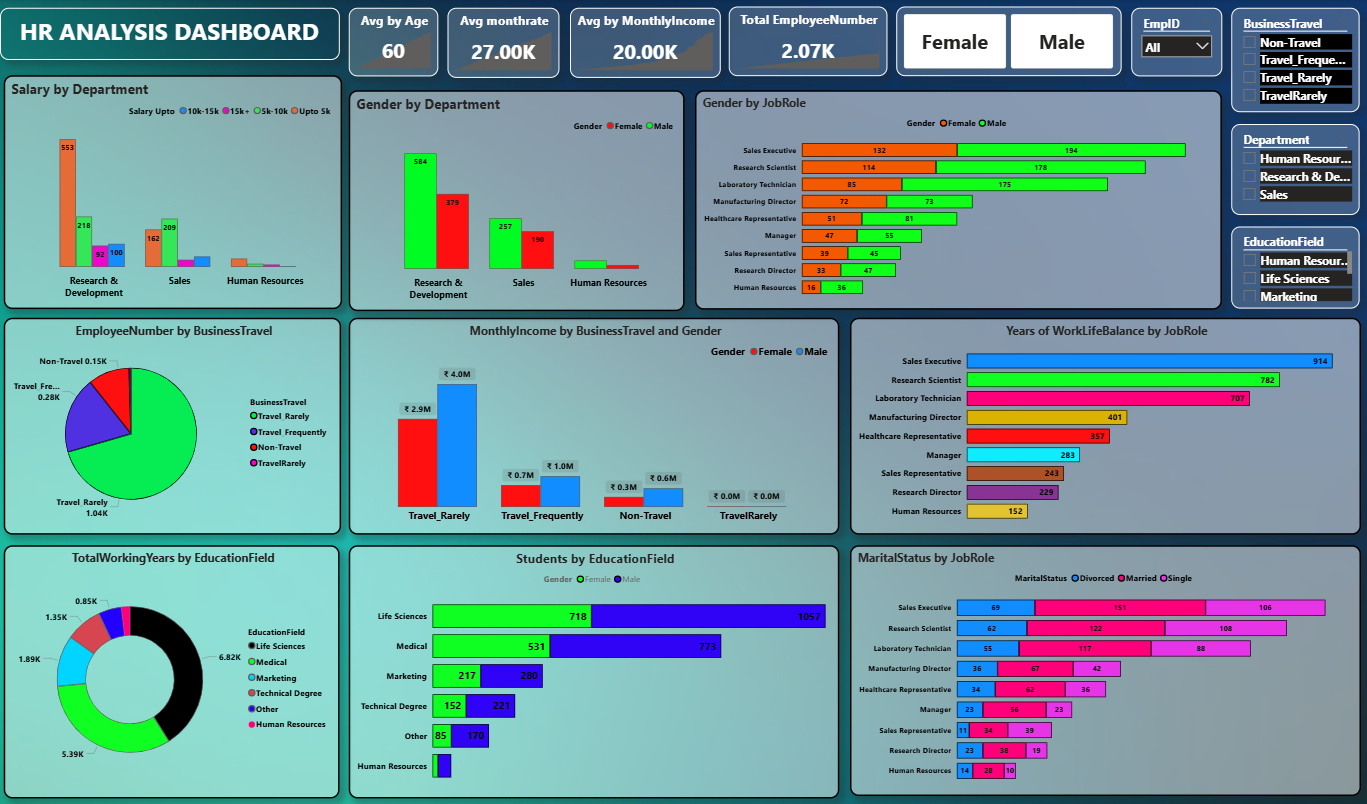

This screenshot's page, from the dashboard's own definition file:
{"tool":"powerbi","page":{"name":"Page 1","canvas":[2200,1300],"ordinal":0},"visuals":[{"type":"kpi","title":"Avg by Age","fields":{"TrendLine":["HR_Analytics.Age"],"Indicator":["HR_Analytics.Avg age"]},"box":[560.8,16.1,142.7,110.5],"z":0},{"type":"kpi","title":"Total  EmployeeNumber","fields":{"Indicator":["HR_Analytics.Total"],"TrendLine":["HR_Analytics.EmployeeNumber"]},"box":[1171.4,12.2,255.1,112.2],"z":1000},{"type":"kpi","title":"Avg by MonthlyIncome","fields":{"Indicator":["HR_Analytics.Avg monthincome"],"TrendLine":["HR_Analytics.MonthlyIncome"]},"box":[915.7,13.1,242,112.8],"z":2000},{"type":"kpi","title":"Avg monthrate","fields":{"Indicator":["HR_Analytics.Avg monthrate"],"TrendLine":["HR_Analytics.MonthlyRate"]},"box":[719.5,13.1,179.9,112.8],"z":3000},{"type":"textbox","box":[0,14,546,84],"z":4000},{"type":"slicer","fields":{"Values":["HR_Analytics.BusinessTravel"]},"box":[1980,14,206,168],"z":5000},{"type":"slicer","fields":{"Values":["HR_Analytics.Department"]},"box":[1980,200,206,146],"z":6000},{"type":"slicer","fields":{"Values":["HR_Analytics.EmpID"]},"box":[1818,14,146,110],"z":7000},{"type":"slicer","fields":{"Values":["HR_Analytics.EducationField"]},"box":[1980,366,206,132],"z":8000},{"type":"advancedSlicerVisual","fields":{"Values":["HR_Analytics.Gender"]},"box":[1442,12,362,112],"z":9000},{"type":"clusteredColumnChart","title":"MonthlyIncome by BusinessTravel and Gender","fields":{"Category":["HR_Analytics.BusinessTravel"],"Series":["HR_Analytics.Gender"],"Y":["Sum(HR_Analytics.MonthlyIncome)"]},"box":[559.8,511.9,788.5,348.5],"z":10000},{"type":"clusteredColumnChart","title":"Salary by Department","fields":{"Category":["HR_Analytics.Department"],"Series":["HR_Analytics.SalarySlab"],"Y":["CountNonNull(HR_Analytics.SalarySlab)"]},"box":[5.5,123.5,543.7,376],"z":11000},{"type":"pieChart","title":"EmployeeNumber by BusinessTravel","fields":{"Y":["CountNonNull(HR_Analytics.EmployeeNumber)"],"Category":["HR_Analytics.BusinessTravel"]},"box":[6.5,511.9,542.4,348.5],"z":12000},{"type":"barChart","title":"Students by EducationField","fields":{"Category":["HR_Analytics.EducationField"],"Y":["Sum(HR_Analytics.Education)"],"Series":["HR_Analytics.Gender"]},"box":[559.8,877.9,788.5,407.3],"z":13000},{"type":"clusteredColumnChart","title":"Gender by Department","fields":{"Category":["HR_Analytics.Department"],"Y":["CountNonNull(HR_Analytics.Gender)"],"Series":["HR_Analytics.Gender"]},"box":[559.8,145.9,540.2,355.1],"z":14000},{"type":"barChart","title":"Gender by JobRole","fields":{"Category":["HR_Analytics.JobRole"],"Y":["CountNonNull(HR_Analytics.Gender)"],"Series":["HR_Analytics.Gender"]},"box":[1117.5,145.9,847.4,352.9],"z":15000},{"type":"barChart","title":"MaritalStatus by JobRole","fields":{"Category":["HR_Analytics.JobRole"],"Y":["CountNonNull(HR_Analytics.MaritalStatus)"],"Series":["HR_Analytics.MaritalStatus"]},"box":[1365.8,877.9,821.2,403],"z":16000},{"type":"donutChart","title":"TotalWorkingYears by EducationField","fields":{"Category":["HR_Analytics.EducationField"],"Y":["Sum(HR_Analytics.TotalWorkingYears)"]},"box":[6.5,877.9,540.2,407.3],"z":17000},{"type":"barChart","title":"Years of WorkLifeBalance by JobRole","fields":{"Category":["HR_Analytics.JobRole"],"Y":["Sum(HR_Analytics.WorkLifeBalance)"]},"box":[1365.8,511.9,821.2,348.5],"z":18000}]}

Visuals, with their boxes in screenshot pixels (x1, y1, x2, y2), scaled from the page's 2200x1300 canvas onto the 1367x804 screenshot:
"Avg by Age" kpi: bbox(348, 10, 437, 78)
"Total  EmployeeNumber" kpi: bbox(728, 8, 886, 77)
"Avg by MonthlyIncome" kpi: bbox(569, 8, 719, 78)
"Avg monthrate" kpi: bbox(447, 8, 559, 78)
textbox: bbox(0, 9, 339, 61)
slicer - HR_Analytics.BusinessTravel: bbox(1230, 9, 1358, 113)
slicer - HR_Analytics.Department: bbox(1230, 124, 1358, 214)
slicer - HR_Analytics.EmpID: bbox(1130, 9, 1220, 77)
slicer - HR_Analytics.EducationField: bbox(1230, 226, 1358, 308)
advancedSlicerVisual - HR_Analytics.Gender: bbox(896, 7, 1121, 77)
"MonthlyIncome by BusinessTravel and Gender" clusteredColumnChart: bbox(348, 317, 838, 532)
"Salary by Department" clusteredColumnChart: bbox(3, 76, 341, 309)
"EmployeeNumber by BusinessTravel" pieChart: bbox(4, 317, 341, 532)
"Students by EducationField" barChart: bbox(348, 543, 838, 795)
"Gender by Department" clusteredColumnChart: bbox(348, 90, 684, 310)
"Gender by JobRole" barChart: bbox(694, 90, 1221, 308)
"MaritalStatus by JobRole" barChart: bbox(849, 543, 1359, 792)
"TotalWorkingYears by EducationField" donutChart: bbox(4, 543, 340, 795)
"Years of WorkLifeBalance by JobRole" barChart: bbox(849, 317, 1359, 532)
